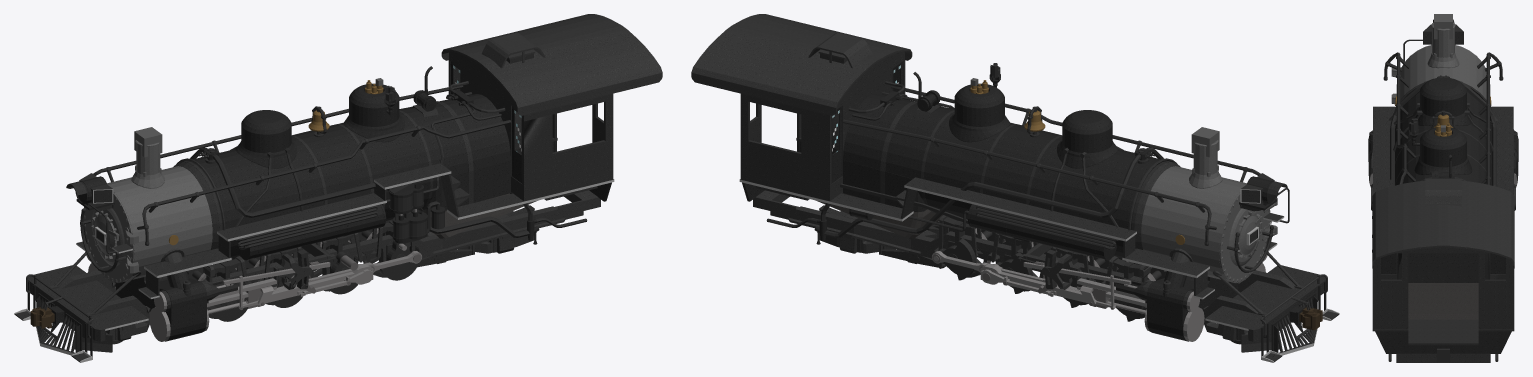
3 renders of one model, left to right at view 1: azimuth 30°, elevation 25°; view 2: azimuth 150°, elevation 25°; view 3: azimuth 270°, elevation 25°, orthographic. The views are drawn at different scales.
Parts seen in each view (by area): view 1: SHELL_BOILER_SEGMENT_1_Cylinder.002, CAB_Cube.007, SMOKEBOX_SMOKEBOX_Cylinder.001, FRAME_Cube, RunningBoards_Cube.006, STEAM_CHEST_Cylinder, PIPES.001_Cube.010, HANDRAIL.001_Cylinder.012, PIPES.003_Cylinder.027, RIGGING_Cube.011, PIPES.002_Cylinder.004, CowCatcher_Cube.001 (+16 smaller); view 2: SHELL_BOILER_SEGMENT_1_Cylinder.002, CAB_Cube.007, SMOKEBOX_SMOKEBOX_Cylinder.001, FRAME_Cube, RunningBoards_Cube.006, STEAM_CHEST_Cylinder, PIPES.001_Cube.010, RIGGING_Cube.011, HANDRAIL.001_Cylinder.012, PIPES.002_Cylinder.004, CowCatcher_Cube.001, HeadLamp_Cube.004 (+15 smaller); view 3: CAB_Cube.007, SHELL_BOILER_SEGMENT_1_Cylinder.002, SMOKEBOX_SMOKEBOX_Cylinder.001, RunningBoards_Cube.006, FIREBOX_FIREBOX_Cylinder.018, HANDRAIL.001_Cylinder.012, PIPES.002_Cylinder.004, FRAME_Cube, HANDRAIL_Cylinder.014, STEAM_CHEST_Cylinder, PIPES_Cylinder.006, HeadLamp_Cube.004 (+7 smaller).
Part boxes in pixels (x1,y1,x2,y2): SHELL_BOILER_SEGMENT_1_Cylinder.002: (173,83,521,258); CAB_Cube.007: (441,14,662,203); SMOKEBOX_SMOKEBOX_Cylinder.001: (83,140,212,282); FRAME_Cube: (26,190,600,341); RunningBoards_Cube.006: (76,163,523,298); STEAM_CHEST_Cylinder: (86,248,276,341); PIPES.001_Cube.010: (176,158,386,260); HANDRAIL.001_Cylinder.012: (80,85,511,272); PIPES.003_Cylinder.027: (382,106,475,243); RIGGING_Cube.011: (203,220,474,285); PIPES.002_Cylinder.004: (190,147,587,244); CowCatcher_Cube.001: (14,281,92,362); SHELL_BOILER_SEGMENT_1_Cylinder.002: (832,83,1180,258); CAB_Cube.007: (691,14,912,203); SMOKEBOX_SMOKEBOX_Cylinder.001: (1141,140,1270,282); FRAME_Cube: (753,190,1327,341); RunningBoards_Cube.006: (830,177,1277,299); STEAM_CHEST_Cylinder: (1077,248,1267,341); PIPES.001_Cube.010: (967,158,1177,260); RIGGING_Cube.011: (879,215,1150,285); HANDRAIL.001_Cylinder.012: (843,85,1273,272); PIPES.002_Cylinder.004: (766,147,1163,244); CowCatcher_Cube.001: (1261,281,1339,362); HeadLamp_Cube.004: (1239,173,1289,223); CAB_Cube.007: (1372,178,1514,353); SHELL_BOILER_SEGMENT_1_Cylinder.002: (1395,77,1491,282); SMOKEBOX_SMOKEBOX_Cylinder.001: (1395,22,1491,105); RunningBoards_Cube.006: (1372,106,1514,287); FIREBOX_FIREBOX_Cylinder.018: (1408,283,1478,319); HANDRAIL.001_Cylinder.012: (1397,53,1490,184); PIPES.002_Cylinder.004: (1388,75,1498,361); FRAME_Cube: (1396,353,1490,362); HANDRAIL_Cylinder.014: (1383,52,1503,139); STEAM_CHEST_Cylinder: (1368,116,1518,187); PIPES_Cylinder.006: (1393,103,1493,151); HeadLamp_Cube.004: (1403,19,1463,60).
Bounding box in the file's own units: 12.79 × 3.99 × 3.01.
11 materials, 11 textured.
